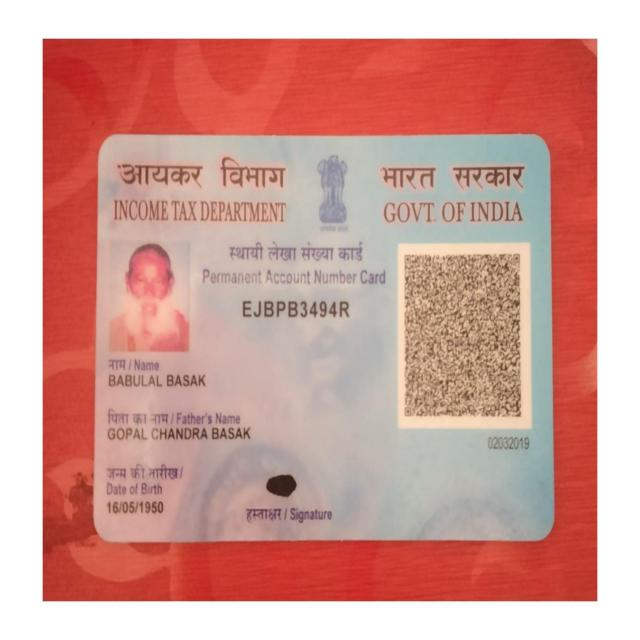pan_card: (99, 133, 547, 541)
